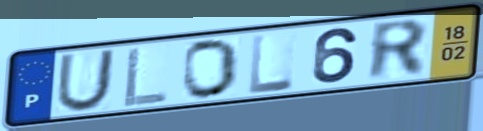6: (310, 26, 360, 87)
L: (120, 44, 171, 110), (248, 31, 297, 96)
O: (181, 37, 241, 101)
R: (367, 17, 430, 84)
U: (54, 47, 119, 114)
